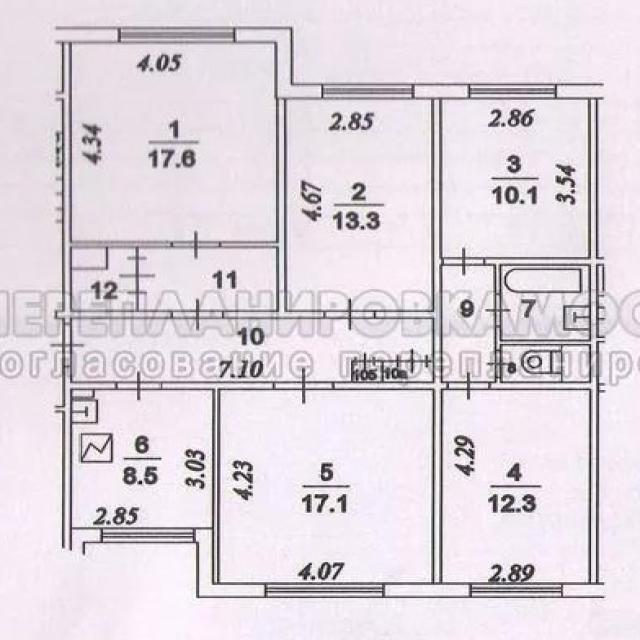Bathrooms: (501, 266, 589, 338), (503, 346, 589, 381)
Corridors: (72, 319, 433, 380), (141, 250, 275, 309), (443, 267, 494, 381), (73, 250, 136, 310), (387, 364, 432, 380), (354, 365, 380, 381)
Doors: (273, 366, 334, 406), (171, 297, 224, 334), (322, 296, 376, 332), (50, 322, 86, 367), (115, 369, 163, 402), (171, 229, 220, 261), (120, 255, 156, 297), (446, 371, 490, 402), (442, 246, 486, 276), (395, 347, 429, 374), (485, 294, 511, 327), (485, 349, 511, 379), (352, 351, 377, 372)
LBwalls: (236, 26, 323, 100), (196, 527, 264, 598), (385, 582, 469, 600), (55, 24, 119, 43), (69, 527, 101, 555), (556, 82, 605, 100), (414, 84, 469, 98), (562, 581, 606, 598)
Offices: (222, 391, 431, 583), (72, 44, 275, 240), (288, 101, 432, 309), (444, 390, 587, 581), (444, 100, 588, 257), (73, 390, 212, 527)
Walls: (484, 101, 607, 583), (333, 99, 449, 583), (54, 44, 173, 325), (161, 381, 274, 583), (220, 100, 324, 319), (54, 366, 117, 551), (350, 361, 354, 383), (381, 363, 385, 382), (377, 360, 397, 363), (428, 359, 431, 364)
Windows: (265, 581, 385, 599), (118, 26, 236, 43), (321, 83, 414, 100), (468, 83, 557, 100), (469, 582, 561, 598), (101, 528, 196, 543)
